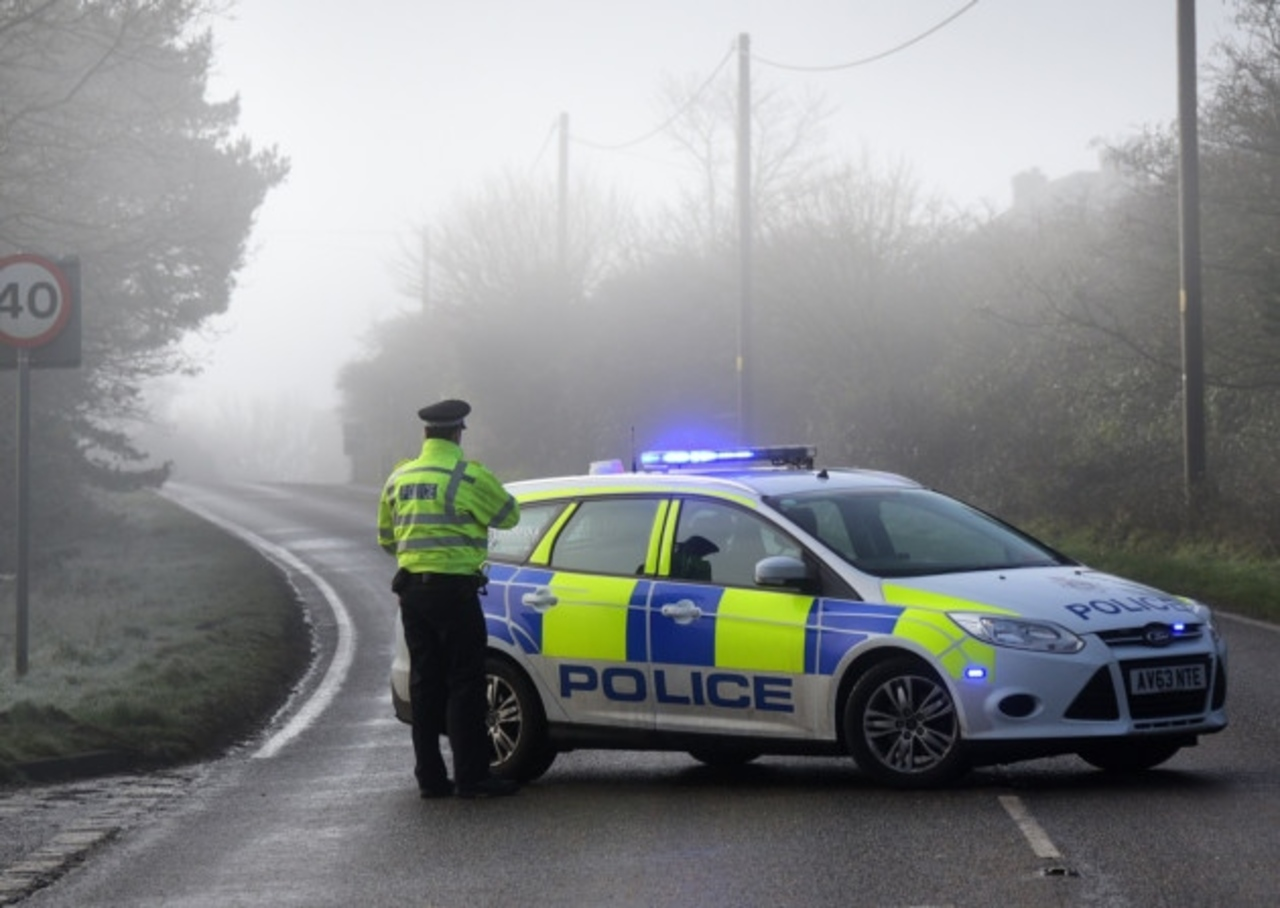car: (415, 458, 1241, 794)
person: (377, 400, 525, 797)
